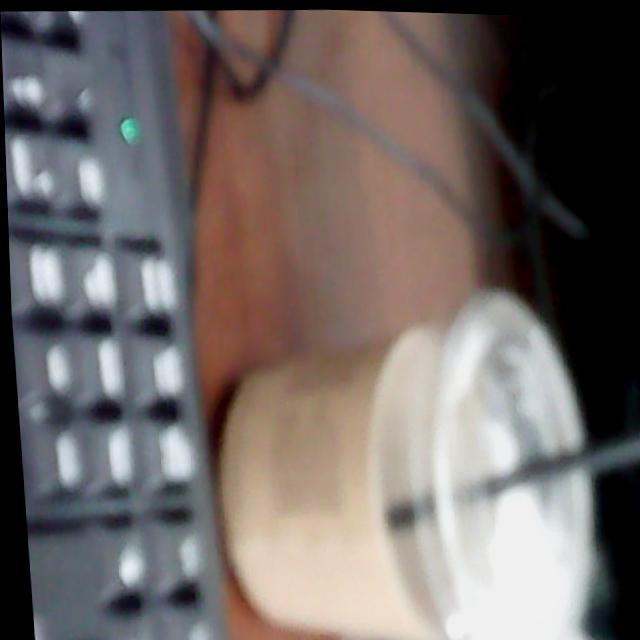cup: (190, 275, 601, 640)
